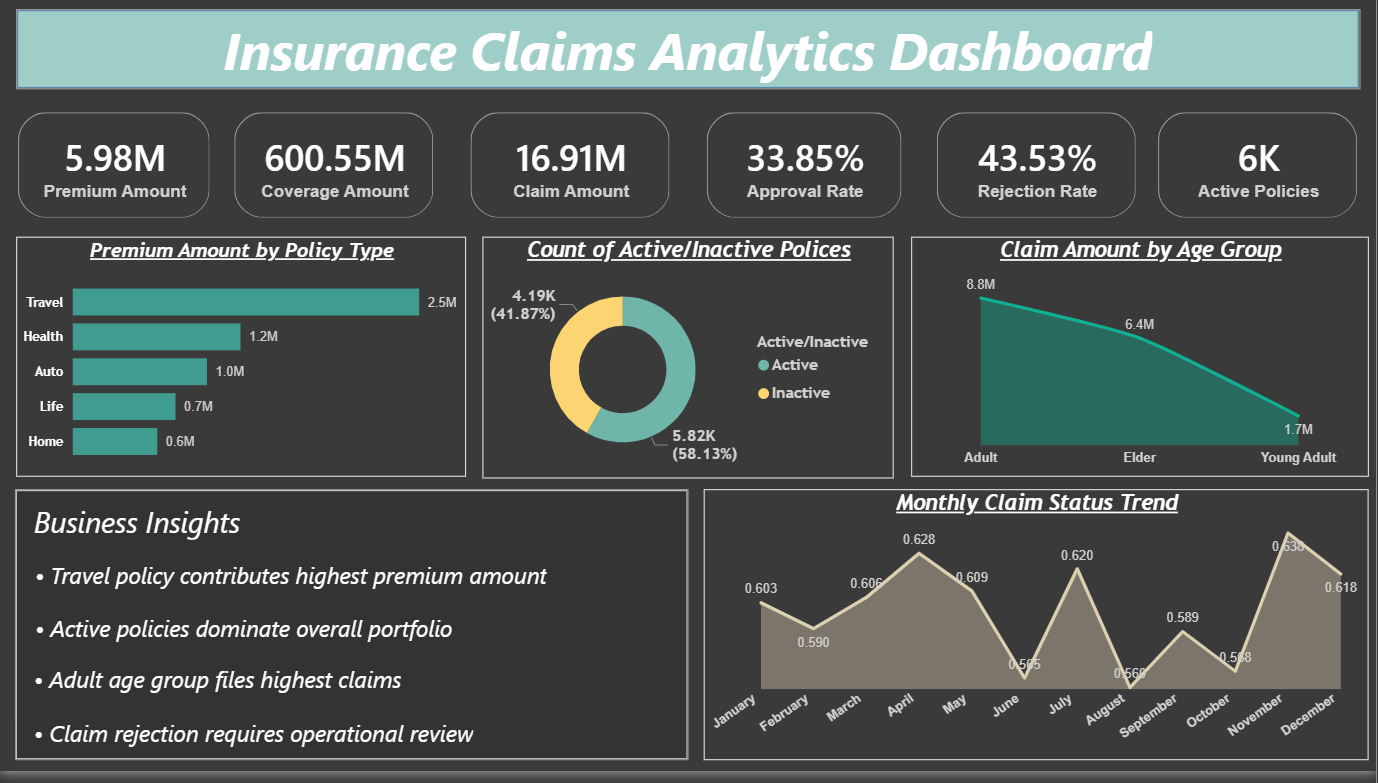

What the dashboard file says about the page in this screenshot:
{"tool":"powerbi","page":{"name":"Overview","canvas":[1280,720],"ordinal":0},"visuals":[{"type":"shape","box":[15.1,10.5,1250,74.4],"z":0},{"type":"cardVisual","fields":{"Data":["Sum(InsuranceData.PremiumAmount)"]},"box":[0,89.5,212.8,132.6],"z":1000},{"type":"cardVisual","fields":{"Data":["Sum(InsuranceData.ClaimAmount)"]},"box":[420.9,89.5,219.8,132.6],"z":2000},{"type":"cardVisual","fields":{"Data":["Sum(InsuranceData.CoverageAmount)"]},"box":[201.2,89.5,219.8,132.6],"z":3000},{"type":"cardVisual","fields":{"Data":["Measures Table.Claim Approval Rate"]},"box":[640.7,89.5,215.1,132.6],"z":4000},{"type":"cardVisual","fields":{"Data":["Measures Table.Active Policies"]},"box":[1060.5,89.5,219.8,132.6],"z":5000},{"type":"cardVisual","fields":{"Data":["Measures Table.Claim Rejection Rate"]},"box":[854.7,89.5,219.8,132.6],"z":6000},{"type":"barChart","title":"Premium Amount by Policy Type","fields":{"Y":["Sum(InsuranceData.PremiumAmount)"],"Category":["InsuranceData.PolicyType"]},"box":[15.1,222.1,418.6,223.3],"z":7000},{"type":"donutChart","title":"Count of Active/Inactive Polices","fields":{"Category":["InsuranceData.Active/Inactive"],"Y":["CountNonNull(InsuranceData.Active/Inactive)"]},"box":[448.8,222.1,382.6,224.4],"z":8000},{"type":"lineChart","title":"Claim Amount by Age Group","fields":{"Category":["InsuranceData.Age Group"],"Y":["Sum(InsuranceData.ClaimAmount)"]},"box":[847.7,222.1,425.6,223.3],"z":9000},{"type":"lineChart","title":"Monthly Claim Status Trend","fields":{"Y":["Measures Table.Claim Approval Rate"],"Category":["InsuranceData.ClaimDate.Variation.Date Hierarchy.Month"]},"box":[654.7,457,618.6,252.3],"z":10000},{"type":"shape","box":[14,457,626.7,252.3],"z":11000},{"type":"shape","box":[31.4,660.5,594.2,44.2],"z":11001},{"type":"shape","box":[31.4,464,594.2,44.2],"z":11002},{"type":"shape","box":[32.6,514,594.2,44.2],"z":11003},{"type":"shape","box":[32.6,562.8,594.2,44.2],"z":11004},{"type":"shape","box":[31.4,610.5,594.2,44.2],"z":11005}]}

Visuals, with their boxes in screenshot pixels (x1, y1, x2, y2), scaled from the page's 1280x720 canvas onto the 1378x783 screenshot:
shape: [16,11,1362,92]
cardVisual - Sum(InsuranceData.PremiumAmount): [0,97,229,242]
cardVisual - Sum(InsuranceData.ClaimAmount): [453,97,690,242]
cardVisual - Sum(InsuranceData.CoverageAmount): [217,97,453,242]
cardVisual - Measures Table.Claim Approval Rate: [690,97,921,242]
cardVisual - Measures Table.Active Policies: [1142,97,1377,242]
cardVisual - Measures Table.Claim Rejection Rate: [920,97,1157,242]
"Premium Amount by Policy Type" barChart: [16,242,467,484]
"Count of Active/Inactive Polices" donutChart: [483,242,895,486]
"Claim Amount by Age Group" lineChart: [913,242,1371,484]
"Monthly Claim Status Trend" lineChart: [705,497,1371,771]
shape: [15,497,690,771]
shape: [34,718,673,766]
shape: [34,505,673,553]
shape: [35,559,675,607]
shape: [35,612,675,660]
shape: [34,664,673,712]
